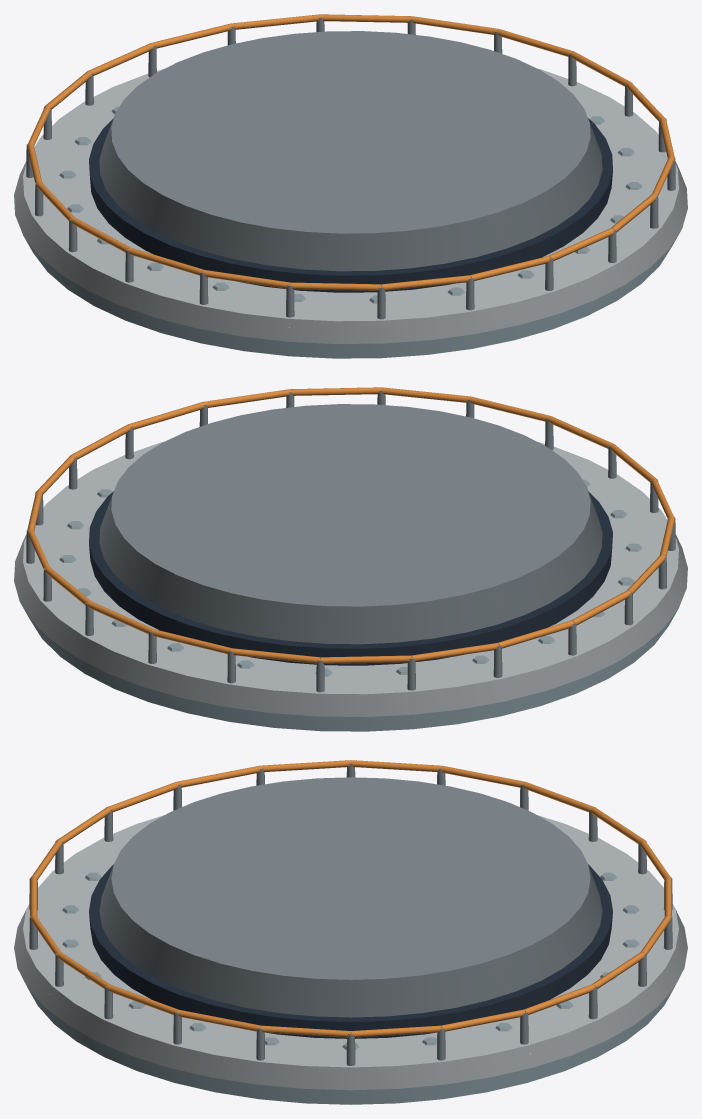
Rendered from dreadnought_ring.glb.
3 renders of one model, top to bottom at view 1: azimuth 30°, elevation 25°; view 2: azimuth 150°, elevation 25°; view 3: azimuth 270°, elevation 25°, orthographic.
Parts seen in each view (by area): view 1: dreadnought_ring; view 2: dreadnought_ring; view 3: dreadnought_ring.
Boxes of the visible parts, x1=… form: dreadnought_ring: x1=14, y1=14, x2=687, y2=358; dreadnought_ring: x1=14, y1=387, x2=687, y2=731; dreadnought_ring: x1=14, y1=760, x2=687, y2=1104.
Bounding box in the file's own units: 4.5 × 0.65 × 4.5.
